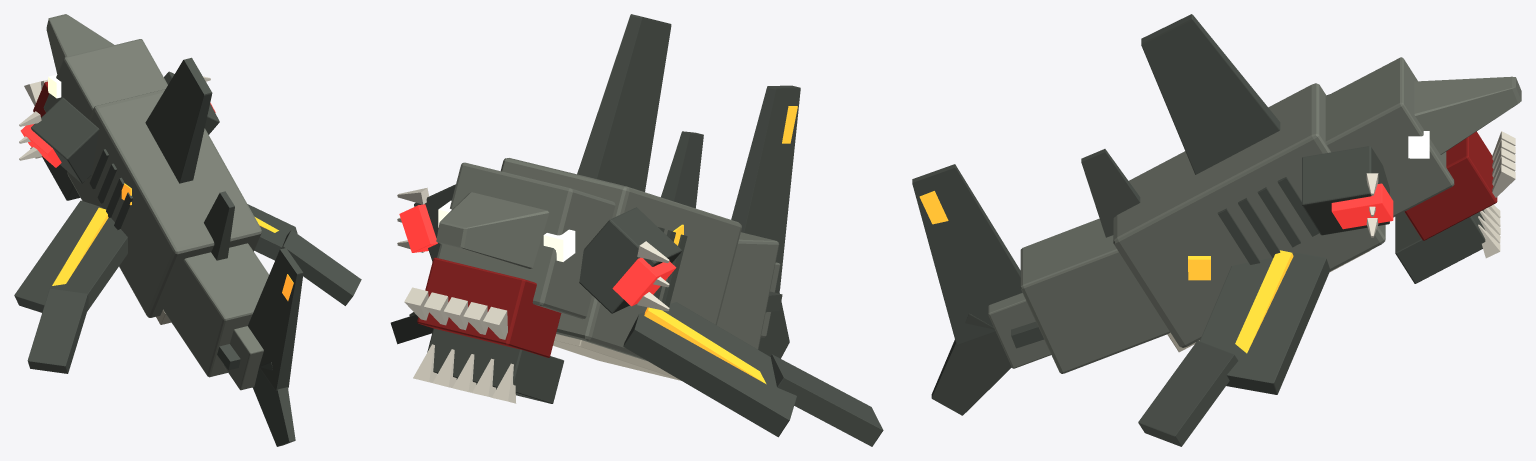
Rendered from mutant-shark.glb.
The picture shows the model from 3 angles, left to right: view 1: azimuth 30°, elevation 25°; view 2: azimuth 150°, elevation 25°; view 3: azimuth 270°, elevation 25°; orthographic projection. The views are drawn at different scales.
Visible parts, largest first — view 1: body, head, fin.R, fin.tail, fin.L, tail; view 2: head, body, fin.R, fin.tail, fin.L, tail; view 3: body, head, fin.L, fin.tail, tail.
Boxes of the visible parts, x1,y1,x2,y2 form: body: [67, 57, 268, 377]; head: [19, 14, 219, 200]; fin.R: [14, 200, 127, 373]; fin.tail: [248, 248, 303, 446]; fin.L: [247, 204, 361, 305]; tail: [217, 326, 263, 390]; head: [397, 162, 681, 403]; body: [500, 14, 779, 380]; fin.R: [623, 302, 883, 446]; fin.tail: [731, 85, 800, 358]; fin.L: [390, 312, 433, 344]; tail: [761, 262, 782, 337]; body: [1020, 14, 1385, 373]; head: [1302, 57, 1521, 283]; fin.L: [1138, 250, 1330, 446]; fin.tail: [912, 164, 1022, 415]; tail: [988, 293, 1051, 368].
Size of the model in its own units: 1.09 by 1 by 1.39.
